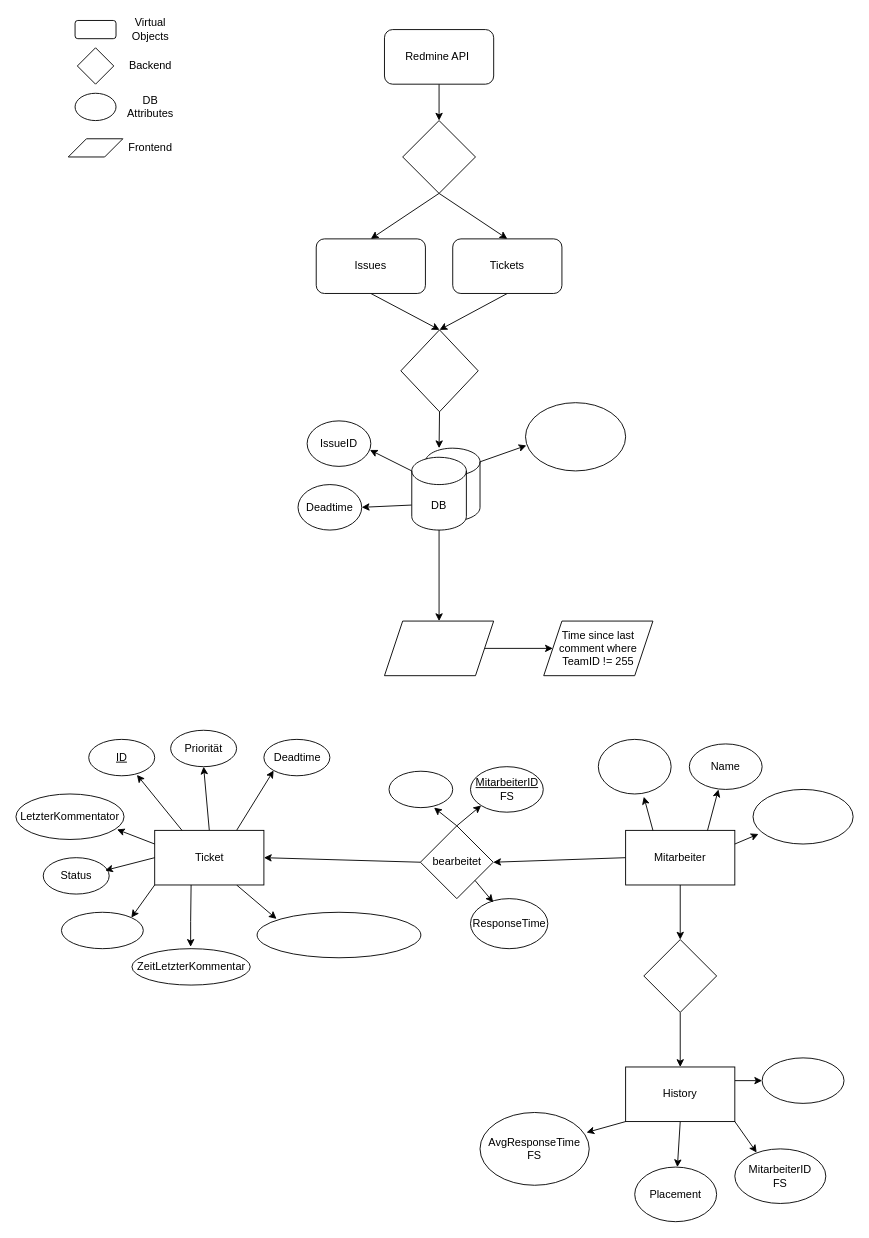
This 869x1238 diagram has some shape labels left out. The centre of each missing label's shape, as x and y in pixels:
"AvgResponseTime" goes at pixel 802 816.
"get" goes at pixel 438 156.
"hat" goes at pixel 680 975.
"if issue Deadtime != NULL & !in DB:" goes at pixel 439 370.
"MitarbeiterID" goes at pixel 634 766.
"TicketID FS" goes at pixel 420 789.
"time of last comment where Team ID != 255" goes at pixel 575 436.
"Vue" goes at pixel 439 648.
"ZeitLetzterKundenKommentar" goes at pixel 338 934.
"Zeitstempel" goes at pixel 802 1080.
"ZugewiesenID" goes at pixel 102 930.
